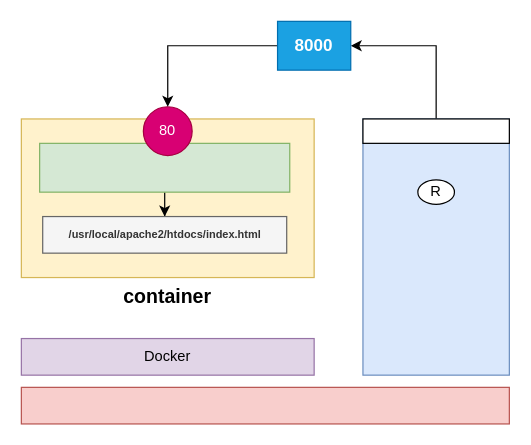
Image size: 531x445. Some labels were removed from this diagram. Each missing label, with the box of its shape:
http://localhost:80: (362, 118, 509, 143)
httpd: (38, 142, 290, 192)
Operating Systtem: (20, 386, 509, 424)
